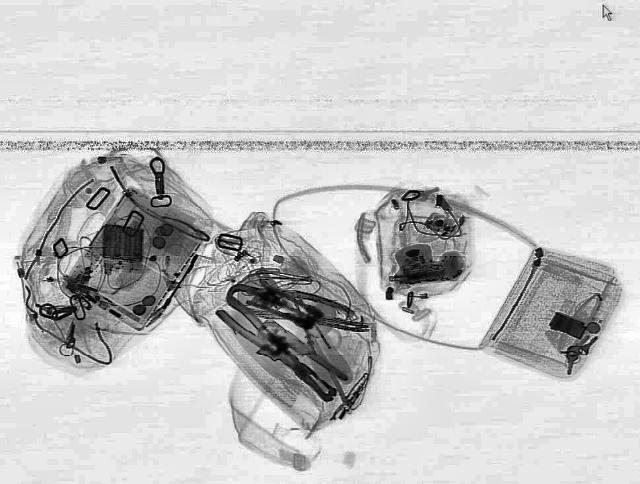Pliers: (206, 294, 322, 382)
